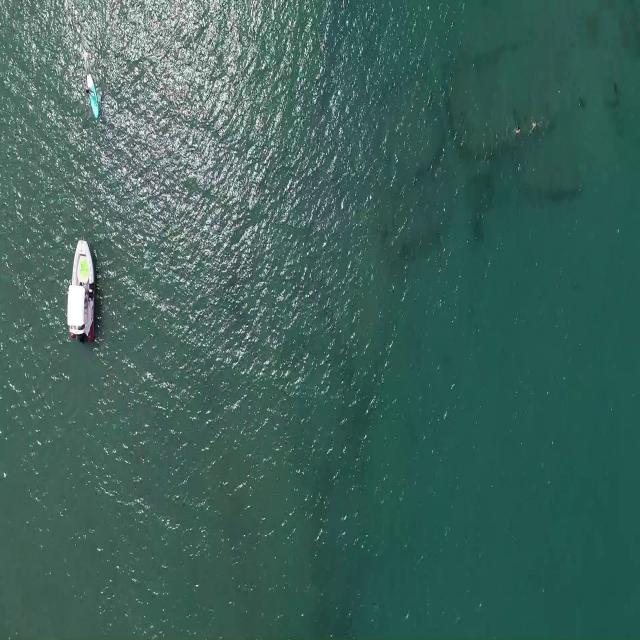boat: (66, 227, 98, 348)
person: (529, 119, 545, 131), (86, 83, 97, 98), (514, 124, 522, 134)
surfboard: (85, 72, 99, 121)
